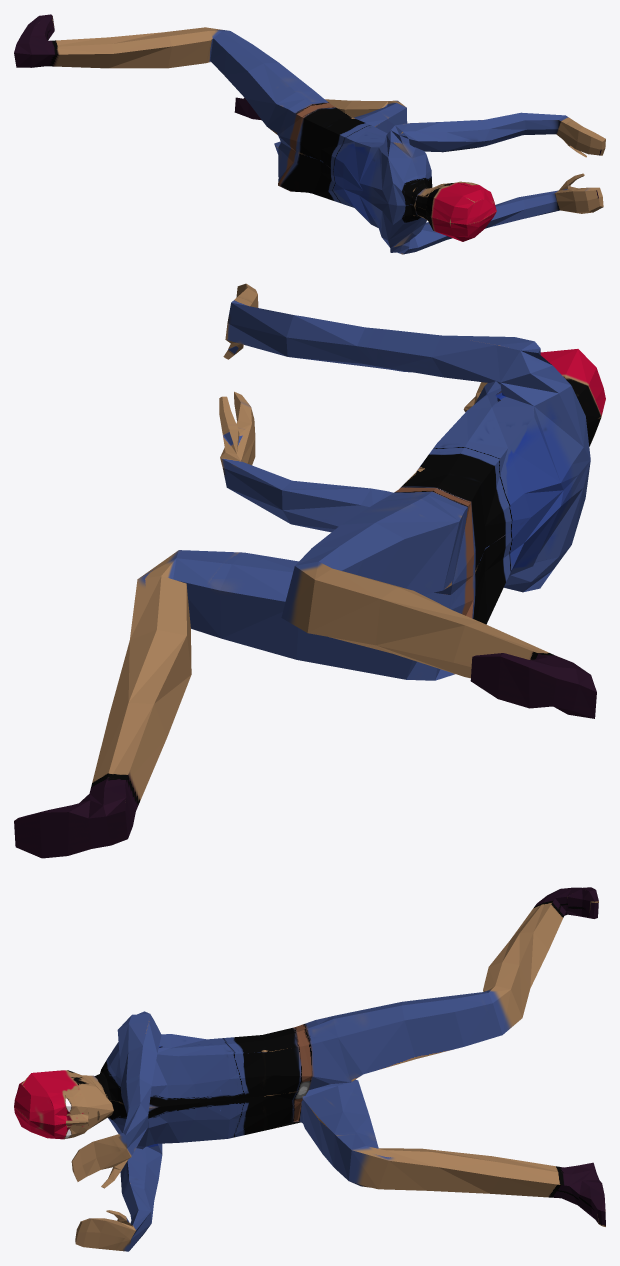
The model's file is mirrorman_000012.obj.
3 views of the same model, one above another, from view 1: azimuth 30°, elevation 25°; view 2: azimuth 150°, elevation 25°; view 3: azimuth 270°, elevation 25° (orthographic). The views are drawn at different scales.
Visible parts, largest first — view 1: mirrorman_Cube.001_Material.001; view 2: mirrorman_Cube.001_Material.001; view 3: mirrorman_Cube.001_Material.001.
Part boxes in pixels (box(x1,y1,x2,y2)): mirrorman_Cube.001_Material.001: box(14, 14, 605, 254); mirrorman_Cube.001_Material.001: box(14, 283, 605, 858); mirrorman_Cube.001_Material.001: box(14, 887, 605, 1251).
Size of the model in its own units: 1.39 by 0.5421 by 1.5.
Materials: 1 (1 with a texture image).
